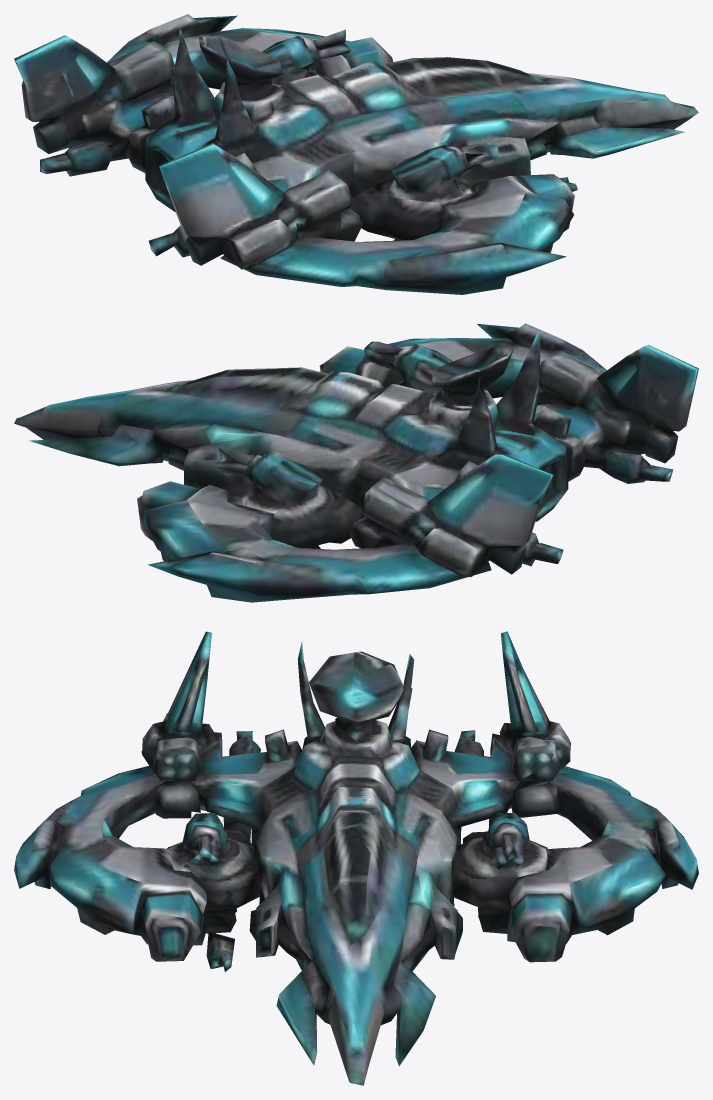
File: rampart_lod.glb
3 renders of one model, top to bottom at view 1: azimuth 30°, elevation 25°; view 2: azimuth 150°, elevation 25°; view 3: azimuth 270°, elevation 25°, orthographic. The views are drawn at different scales.
Visible parts, largest first — view 1: tripo_node_62f8c092-e570-4e2f-bffb-321d34601075; view 2: tripo_node_62f8c092-e570-4e2f-bffb-321d34601075; view 3: tripo_node_62f8c092-e570-4e2f-bffb-321d34601075.
Boxes of the visible parts, x1,y1,x2,y2 form: tripo_node_62f8c092-e570-4e2f-bffb-321d34601075: [14, 14, 698, 294]; tripo_node_62f8c092-e570-4e2f-bffb-321d34601075: [14, 323, 698, 602]; tripo_node_62f8c092-e570-4e2f-bffb-321d34601075: [14, 631, 698, 1085].
Size of the model in its own units: 0.9796 by 0.3289 by 0.9337.
1 material, 1 textured.
